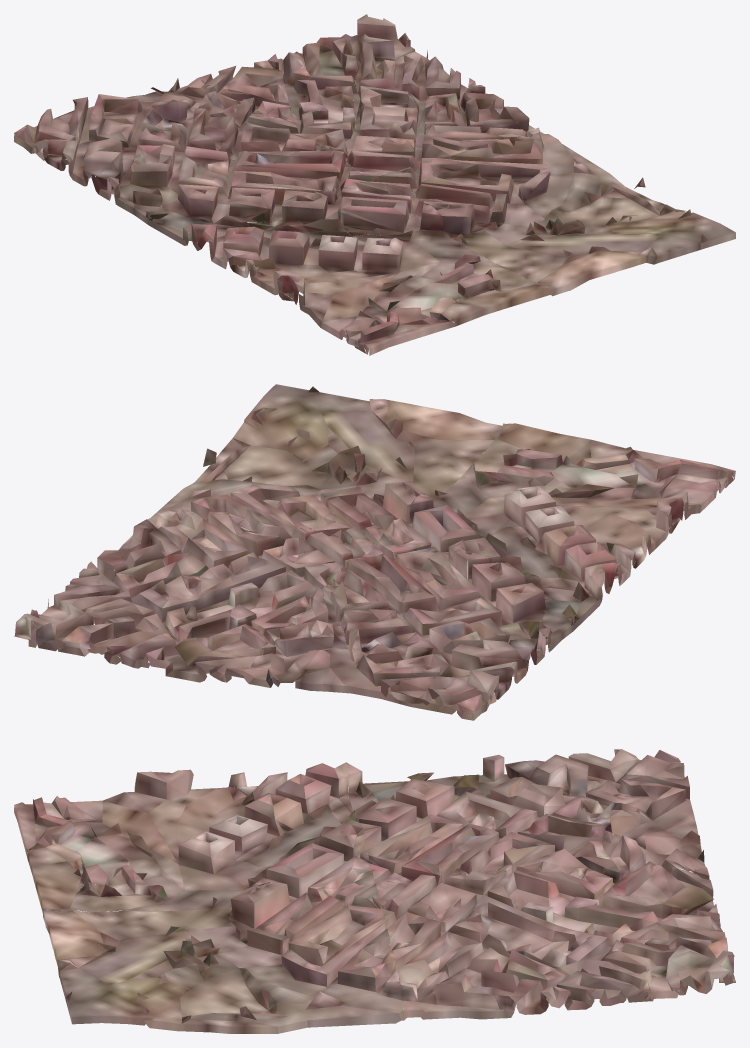
3 renders of one model, top to bottom at view 1: azimuth 30°, elevation 25°; view 2: azimuth 150°, elevation 25°; view 3: azimuth 270°, elevation 25°, orthographic. The views are drawn at different scales.
Visible parts, largest first — view 1: Mesh_0; view 2: Mesh_0; view 3: Mesh_0.
Part boxes in pixels (x1,y1,x2,y2): Mesh_0: (14, 14, 735, 355); Mesh_0: (14, 384, 735, 720); Mesh_0: (14, 749, 735, 1033).
Size of the model in its own units: 532 by 61.47 by 659.
2 materials, 2 textured.
